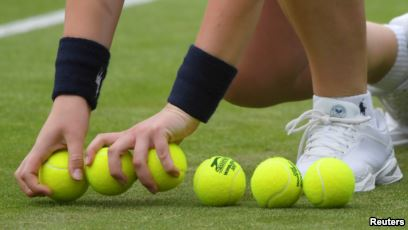tennis_ball: (250, 157, 303, 209), (191, 156, 245, 206), (303, 158, 356, 208), (85, 146, 136, 195), (39, 149, 84, 204), (147, 144, 187, 191)
